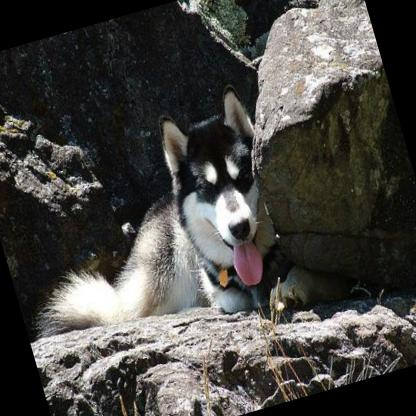malamute: (0, 84, 298, 364)
